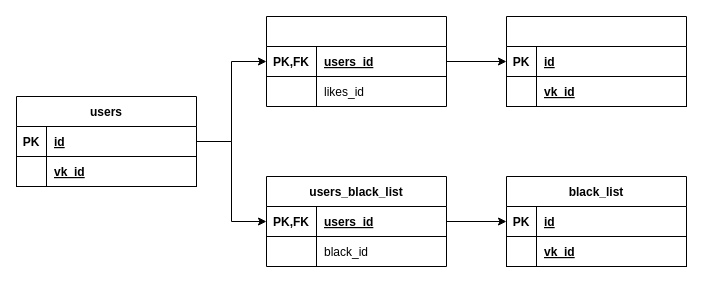
Some shapes in this 703 by 283 pixel diagram are drawn without their labels. Here are the shapes that lost their labels. From the top down, the box of each, then its label:
(266, 16, 446, 106): users_likes
(506, 16, 686, 106): likes
